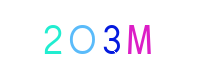0: (59, 0, 139, 80)
2: (31, 0, 111, 80)
3: (73, 0, 153, 80)
M: (99, 0, 179, 80)
